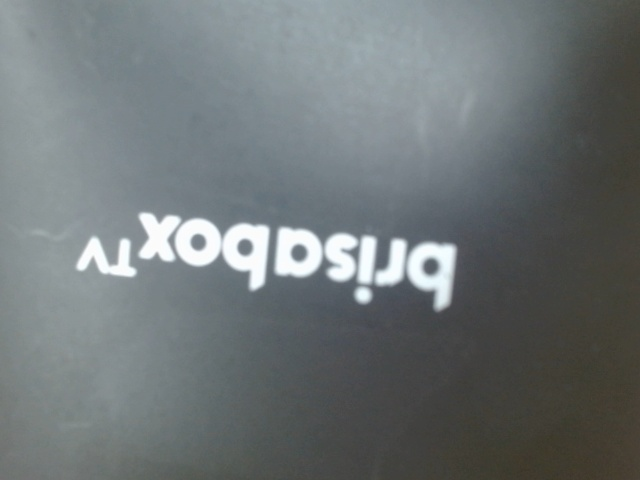AH_brisabox: (64, 191, 464, 327)
